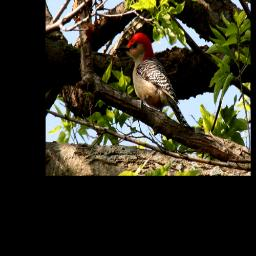Woodpecker: (114, 30, 193, 130)
